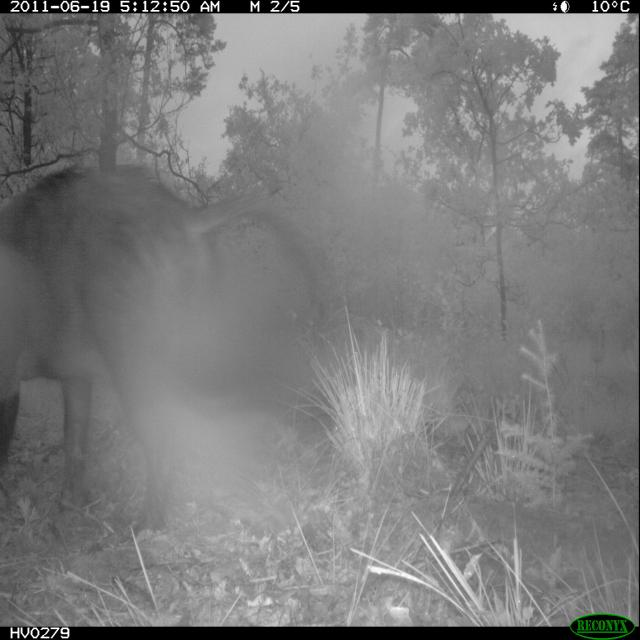boar: (0, 148, 406, 546)
